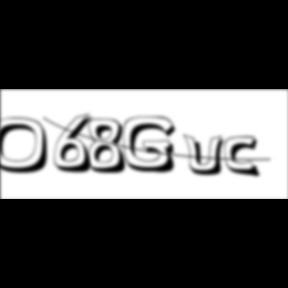6: (54, 112, 98, 176)
8: (88, 117, 132, 176)
G: (124, 116, 182, 176)
O: (0, 117, 56, 176)
c: (225, 136, 265, 180)
u: (183, 132, 231, 178)
